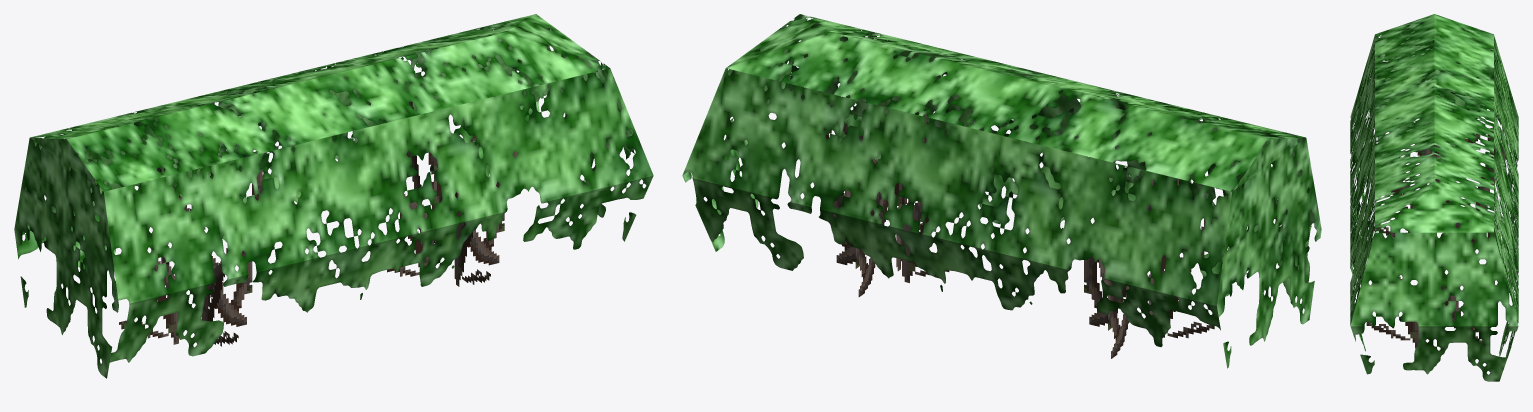
Rendered from bush_long_open_right_roots_spring.fbx.
3 renders of one model, left to right at view 1: azimuth 30°, elevation 25°; view 2: azimuth 150°, elevation 25°; view 3: azimuth 270°, elevation 25°, orthographic. The views are drawn at different scales.
Parts seen in each view (by area): view 1: bush_long_open_right_roots_spring; view 2: bush_long_open_right_roots_spring; view 3: bush_long_open_right_roots_spring.
Part boxes in pixels (x1=…): bush_long_open_right_roots_spring: x1=14, y1=14, x2=653, y2=378; bush_long_open_right_roots_spring: x1=682, y1=14, x2=1321, y2=368; bush_long_open_right_roots_spring: x1=1350, y1=14, x2=1518, y2=381.
Size of the model in its own units: 212 by 87.65 by 71.91.
Materials: 2 (2 with a texture image).
